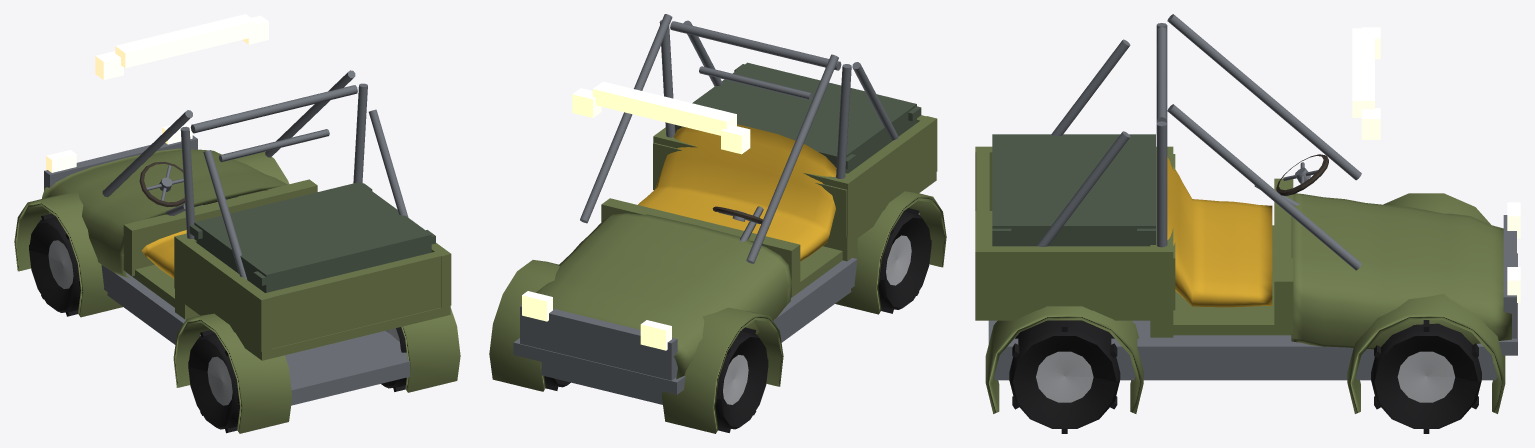
Rendered from vehicle_dagator.glb.
3 views of the same model, side by side, from view 1: azimuth 30°, elevation 25°; view 2: azimuth 150°, elevation 25°; view 3: azimuth 270°, elevation 25° (orthographic). The views are drawn at different scales.
Parts seen in each view (by area): view 1: vehicle_dagator_body, vehicle_dagator_tarp, vehicle_dagator_fenders, vehicle_dagator_nose, vehicle_dagator_chassis, vehicle_dagator_cage, vehicle_dagator_lightbar, wheel_rl_tyre, wheel_fl_tyre, vehicle_dagator_seat, wheel_rl_rim, wheel_fl_rim (+2 smaller); view 2: vehicle_dagator_nose, vehicle_dagator_fenders, vehicle_dagator_seat, vehicle_dagator_chassis, vehicle_dagator_body, vehicle_dagator_tarp, vehicle_dagator_cage, vehicle_dagator_lightbar, wheel_fl_tyre, wheel_rl_tyre, vehicle_dagator_lamps, wheel_rl_rim (+1 smaller); view 3: vehicle_dagator_nose, vehicle_dagator_body, vehicle_dagator_tarp, vehicle_dagator_chassis, vehicle_dagator_seat, vehicle_dagator_cage, vehicle_dagator_fenders, wheel_rr_tyre, wheel_fr_tyre, vehicle_dagator_lightbar, wheel_fr_rim, wheel_rr_rim (+2 smaller).
Boxes of the visible parts, x1=… form: vehicle_dagator_body: x1=123, y1=179, x2=451, y2=360; vehicle_dagator_tarp: x1=189, y1=182, x2=435, y2=292; vehicle_dagator_fenders: x1=14, y1=152, x2=460, y2=433; vehicle_dagator_nose: x1=42, y1=148, x2=287, y2=279; vehicle_dagator_chassis: x1=40, y1=135, x2=409, y2=405; vehicle_dagator_cage: x1=102, y1=70, x2=408, y2=279; vehicle_dagator_lightbar: x1=95, y1=14, x2=268, y2=79; wheel_rl_tyre: x1=188, y1=333, x2=239, y2=429; wheel_fl_tyre: x1=29, y1=217, x2=80, y2=312; vehicle_dagator_seat: x1=141, y1=230, x2=186, y2=278; wheel_rl_rim: x1=207, y1=356, x2=232, y2=405; wheel_fl_rim: x1=48, y1=240, x2=73, y2=288; vehicle_dagator_nose: x1=536, y1=213, x2=791, y2=379; vehicle_dagator_fenders: x1=489, y1=191, x2=946, y2=433; vehicle_dagator_seat: x1=638, y1=124, x2=836, y2=261; vehicle_dagator_chassis: x1=513, y1=213, x2=919, y2=404; vehicle_dagator_body: x1=601, y1=115, x2=937, y2=297; vehicle_dagator_tarp: x1=675, y1=62, x2=921, y2=173; vehicle_dagator_cage: x1=580, y1=14, x2=898, y2=263; vehicle_dagator_lightbar: x1=572, y1=81, x2=750, y2=154; wheel_fl_tyre: x1=715, y1=331, x2=768, y2=429; wheel_rl_tyre: x1=878, y1=211, x2=931, y2=309; vehicle_dagator_lamps: x1=522, y1=291, x2=671, y2=350; wheel_rl_rim: x1=886, y1=235, x2=911, y2=285; vehicle_dagator_nose: x1=1291, y1=193, x2=1511, y2=349; vehicle_dagator_body: x1=975, y1=146, x2=1293, y2=337; vehicle_dagator_tarp: x1=992, y1=134, x2=1155, y2=246; vehicle_dagator_chassis: x1=988, y1=215, x2=1517, y2=380; vehicle_dagator_seat: x1=1167, y1=157, x2=1272, y2=307; vehicle_dagator_cage: x1=1036, y1=14, x2=1361, y2=270; vehicle_dagator_fenders: x1=985, y1=193, x2=1505, y2=413; wheel_rr_tyre: x1=1009, y1=320, x2=1120, y2=428; wheel_fr_tyre: x1=1371, y1=323, x2=1481, y2=428; vehicle_dagator_lightbar: x1=1352, y1=27, x2=1380, y2=139; wheel_fr_rim: x1=1397, y1=351, x2=1455, y2=402; wheel_rr_rim: x1=1036, y1=351, x2=1093, y2=402.
Size of the model in its own units: 1.5 by 1.84 by 2.87.
